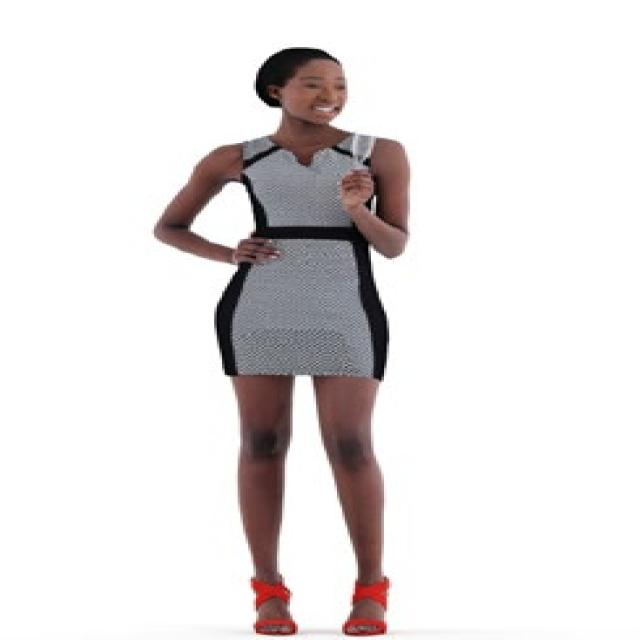standing: (145, 42, 424, 640)
